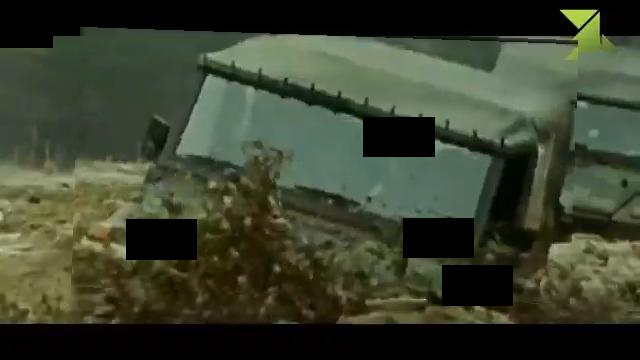MIL_HMMWV: (73, 28, 576, 300)
